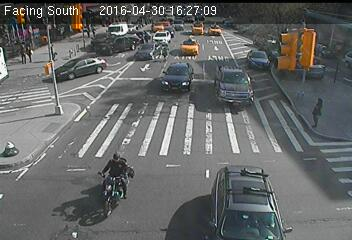neg: (84, 144, 140, 219), (177, 168, 214, 217), (41, 81, 77, 129), (186, 105, 220, 150), (112, 45, 144, 88), (298, 168, 329, 209), (223, 66, 250, 100), (7, 137, 33, 171), (247, 148, 271, 181), (78, 47, 101, 78), (156, 42, 179, 73)
pos: (310, 95, 335, 129)
